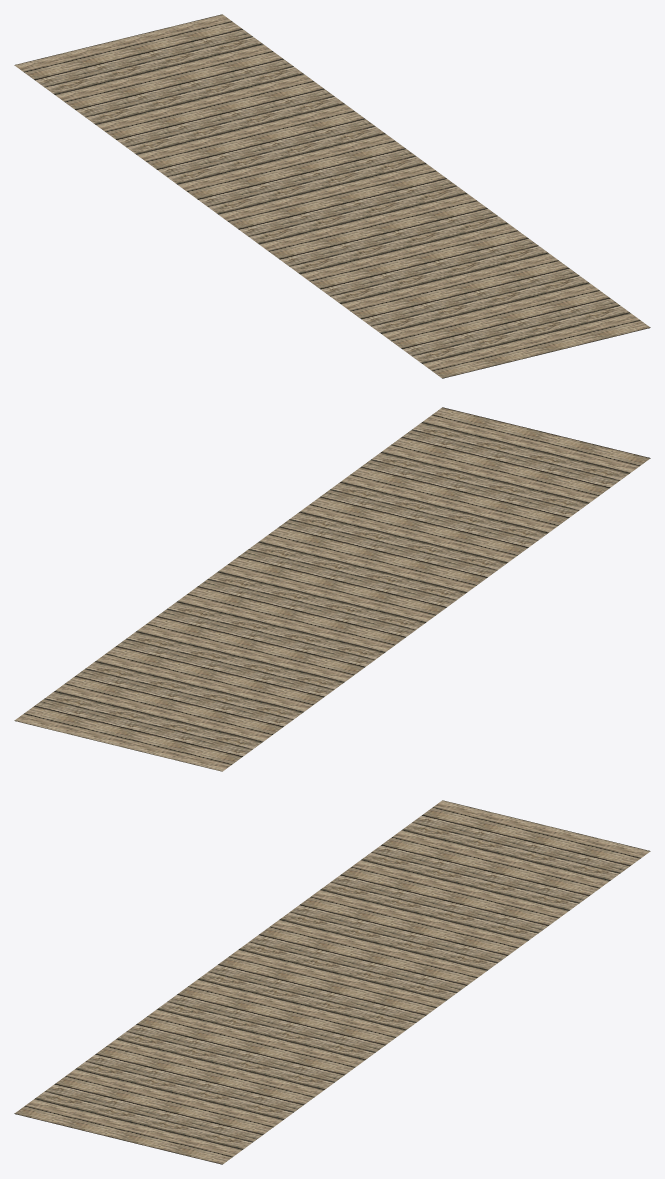
Rendered from LAKETOWN_WAREHOUSE2_PS_WH2_EXIT_ROOF939384.obj.
3 renders of one model, top to bottom at view 1: azimuth 30°, elevation 25°; view 2: azimuth 150°, elevation 25°; view 3: azimuth 330°, elevation 25°, orthographic.
Visible parts, largest first — view 1: Exit_Roof939384; view 2: Exit_Roof939384; view 3: Exit_Roof939384.
Part boxes in pixels (x1,y1,x2,y2): Exit_Roof939384: (14,14,650,378); Exit_Roof939384: (14,407,650,771); Exit_Roof939384: (14,800,650,1164).
Bounding box in the file's own units: 783 × 0 × 2789.
